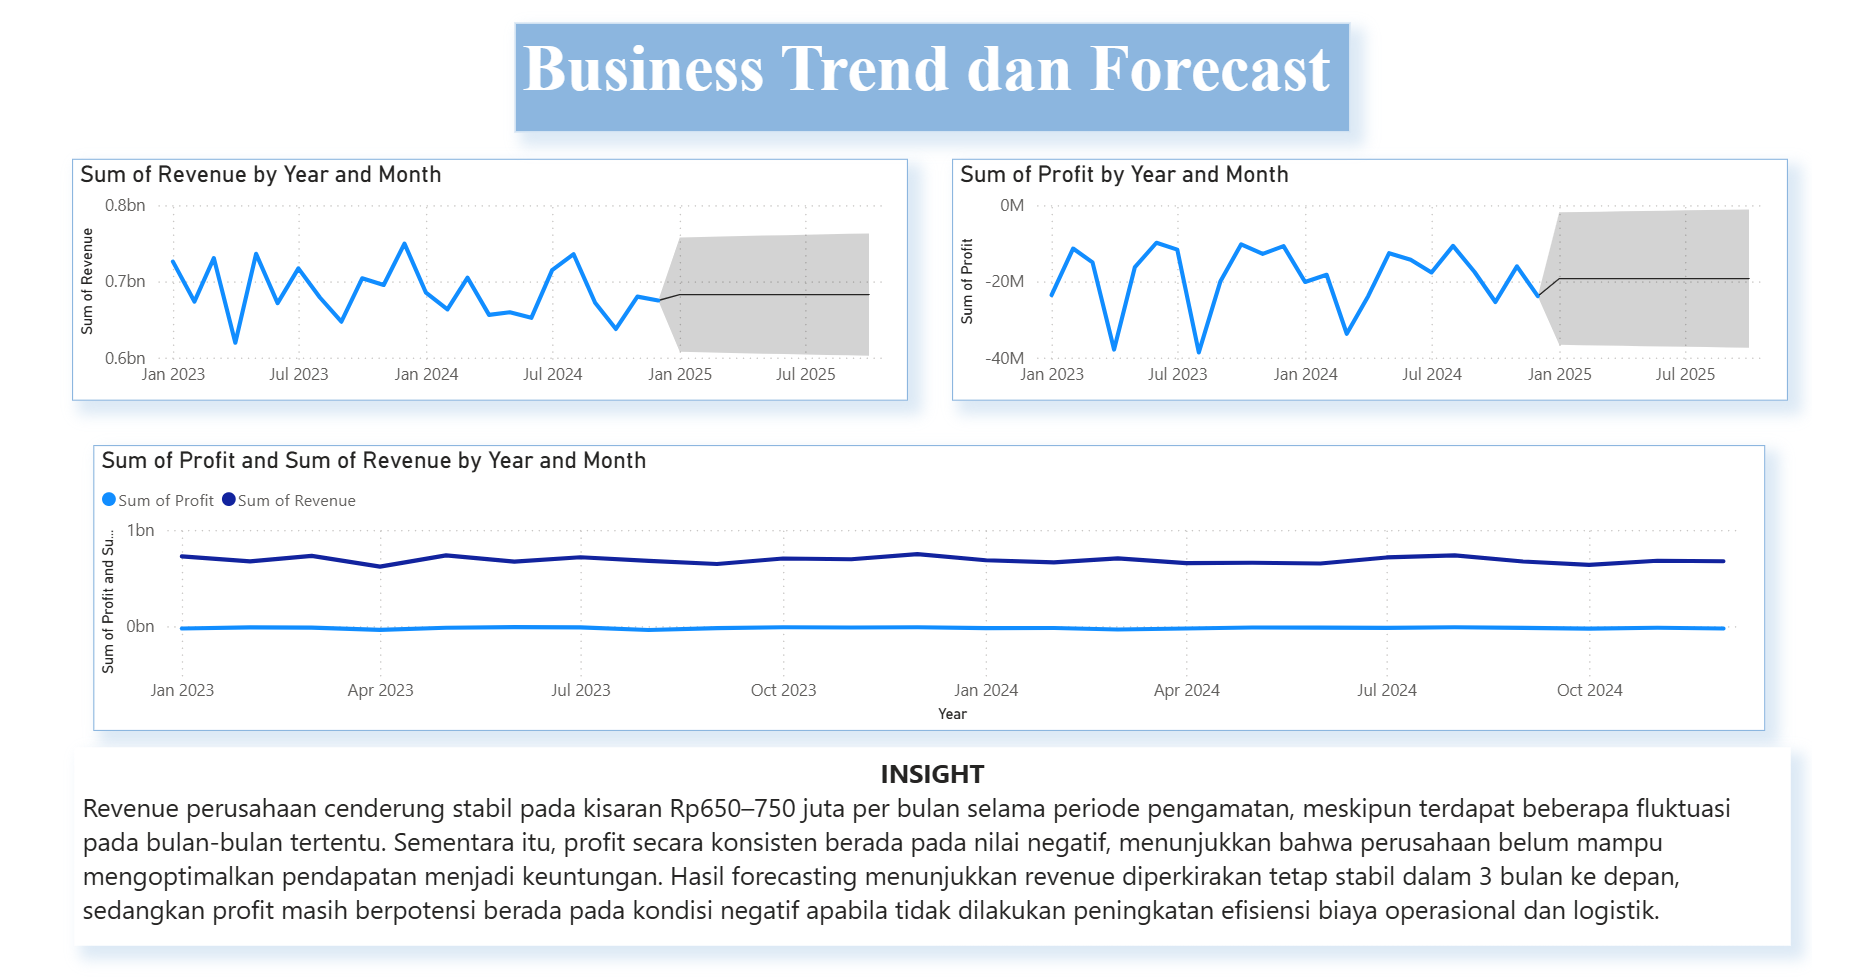

What the dashboard file says about the page in this screenshot:
{"tool":"powerbi","page":{"name":"TREND & PROYEKSI","canvas":[1280,720],"ordinal":1},"visuals":[{"type":"lineChart","fields":{"Y":["Sum(FINAL PROJECT.Profit)","Sum(FINAL PROJECT.Revenue)"],"Category":["FINAL PROJECT.OrderDate.Variation.Date Hierarchy.Year","FINAL PROJECT.OrderDate.Variation.Date Hierarchy.Month"]},"box":[30.3,323.7,1216,208],"z":0},{"type":"lineChart","fields":{"Category":["FINAL PROJECT.OrderDate.Variation.Date Hierarchy.Year","FINAL PROJECT.OrderDate.Variation.Date Hierarchy.Month"],"Y":["Sum(FINAL PROJECT.Revenue)"]},"box":[14.3,115.7,608,176],"z":1000},{"type":"lineChart","fields":{"Category":["FINAL PROJECT.OrderDate.Variation.Date Hierarchy.Year","FINAL PROJECT.OrderDate.Variation.Date Hierarchy.Month"],"Y":["Sum(FINAL PROJECT.Profit)"]},"box":[654.3,115.7,608,176],"z":2000},{"type":"textbox","box":[336,16,608,80],"z":3000},{"type":"textbox","box":[16,544,1248,144],"z":4000}]}

Visuals, with their boxes on the page's 1280x720 design canvas (x1, y1, x2, y2). These are canvas units, not pixel positions in the 1868x979 screenshot, which may show the page scaled, cropped or inside an application window:
lineChart - Sum(FINAL PROJECT.Profit) x Sum(FINAL PROJECT.Revenue): x1=30 y1=324 x2=1246 y2=532
lineChart - FINAL PROJECT.OrderDate.Variation.Date Hierarchy.Year x FINAL PROJECT.OrderDate.Variation.Date Hierarchy.Month: x1=14 y1=116 x2=622 y2=292
lineChart - FINAL PROJECT.OrderDate.Variation.Date Hierarchy.Year x FINAL PROJECT.OrderDate.Variation.Date Hierarchy.Month: x1=654 y1=116 x2=1262 y2=292
textbox: x1=336 y1=16 x2=944 y2=96
textbox: x1=16 y1=544 x2=1264 y2=688
